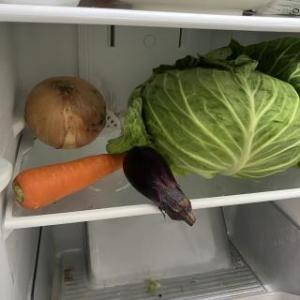cabbage: (104, 36, 300, 182)
carrot: (11, 152, 129, 212)
eggplant: (122, 144, 198, 228)
onion: (24, 75, 108, 151)
